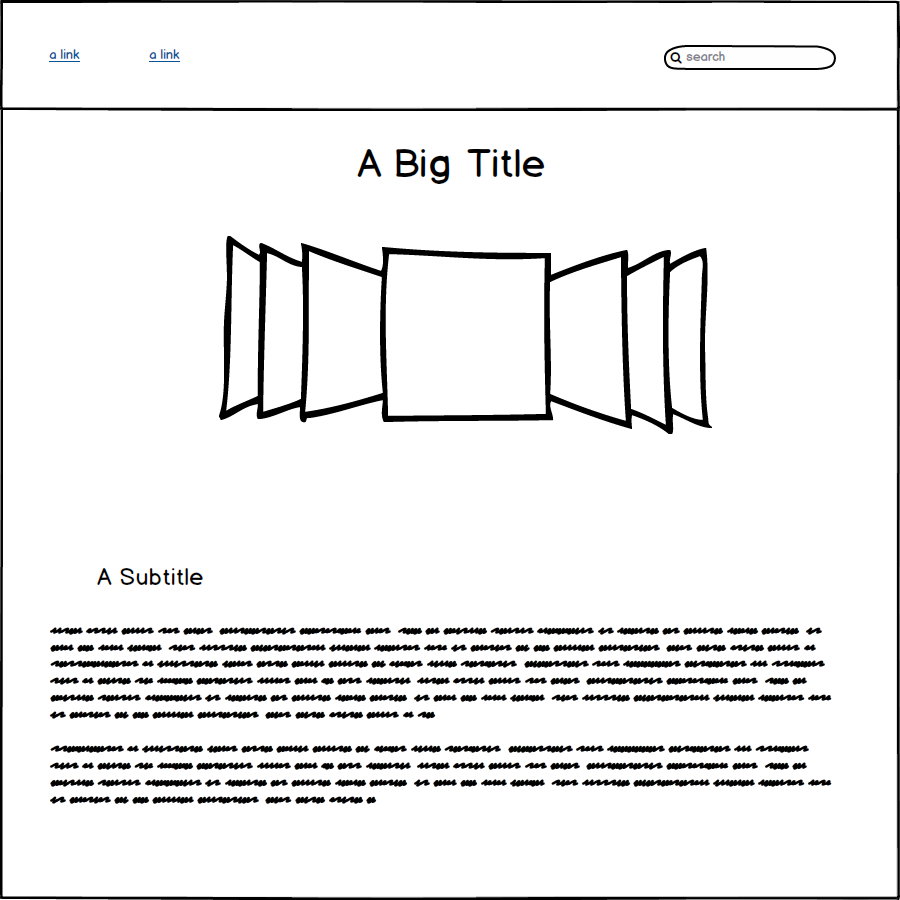h1: (349, 134, 549, 192), (92, 556, 215, 595)
navlink: (138, 33, 192, 67), (42, 40, 90, 69)
p: (39, 614, 846, 823)
search: (661, 34, 848, 85)
slideshow: (201, 226, 722, 443)
